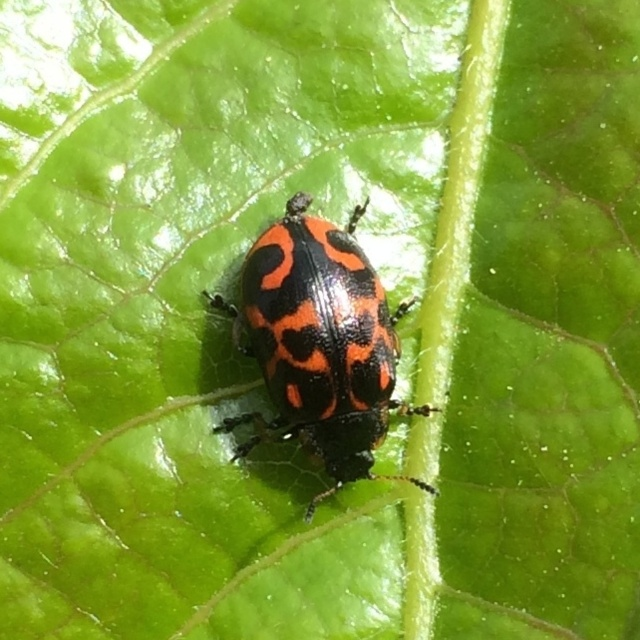Ladybug: (197, 211, 453, 537)
